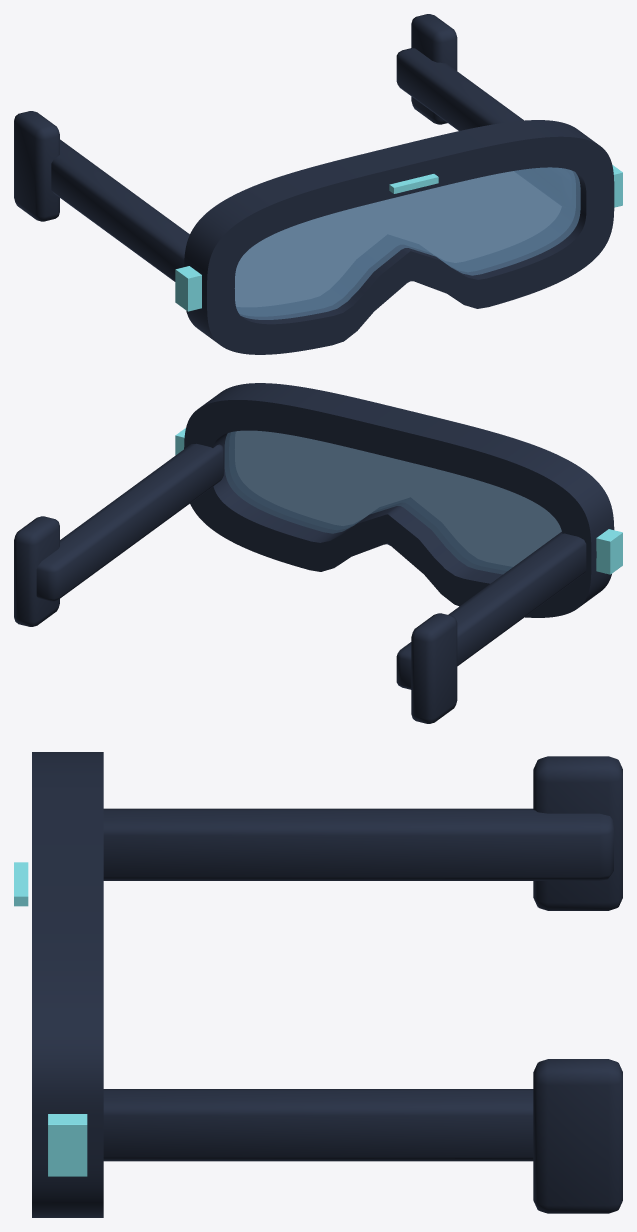
The model's file is techvisor.glb.
3 views of the same model, one above another, from view 1: azimuth 30°, elevation 25°; view 2: azimuth 150°, elevation 25°; view 3: azimuth 270°, elevation 25° (orthographic). The views are drawn at different scales.
Visible parts, largest first — view 1: VisorFrame, VisorLens, ArmL.006, ArmR.006, ArmLHook.006, ArmRHook.006, TabL, Vent; view 2: VisorFrame, VisorLens, ArmR.006, ArmL.006, ArmLHook.006, ArmRHook.006, TabL; view 3: ArmL.006, ArmR.006, VisorFrame, ArmRHook.006, ArmLHook.006, TabR, Vent.
Part boxes in pixels (left/top/right/bottom): VisorFrame: left=184, top=120, right=614, bottom=354; VisorLens: left=234, top=167, right=580, bottom=319; ArmL.006: left=51, top=139, right=189, bottom=281; ArmR.006: left=396, top=48, right=523, bottom=130; ArmLHook.006: left=14, top=111, right=59, bottom=221; ArmRHook.006: left=411, top=14, right=457, bottom=124; TabL: left=175, top=266, right=201, bottom=311; Vent: left=389, top=174, right=438, bottom=193; VisorFrame: left=184, top=383, right=614, bottom=617; VisorLens: left=224, top=430, right=561, bottom=574; ArmR.006: left=36, top=443, right=223, bottom=601; ArmL.006: left=396, top=531, right=586, bottom=689; ArmLHook.006: left=411, top=613, right=457, bottom=723; ArmRHook.006: left=14, top=516, right=59, bottom=626; TabL: left=596, top=529, right=622, bottom=574; ArmL.006: left=103, top=808, right=613, bottom=880; ArmR.006: left=103, top=1089, right=533, bottom=1161; VisorFrame: left=32, top=752, right=103, bottom=1217; ArmRHook.006: left=533, top=1059, right=622, bottom=1213; ArmLHook.006: left=533, top=756, right=622, bottom=910; TabR: left=48, top=1114, right=87, bottom=1176; Vent: left=14, top=862, right=28, bottom=906.
Bounding box in the file's own units: 0.438 × 0.1553 × 0.34.
